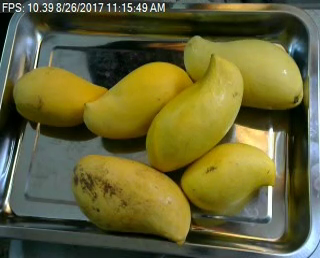Mango: (147, 55, 244, 171), (74, 157, 191, 244), (82, 62, 201, 139), (184, 35, 304, 107), (177, 143, 273, 211), (13, 65, 112, 129)
